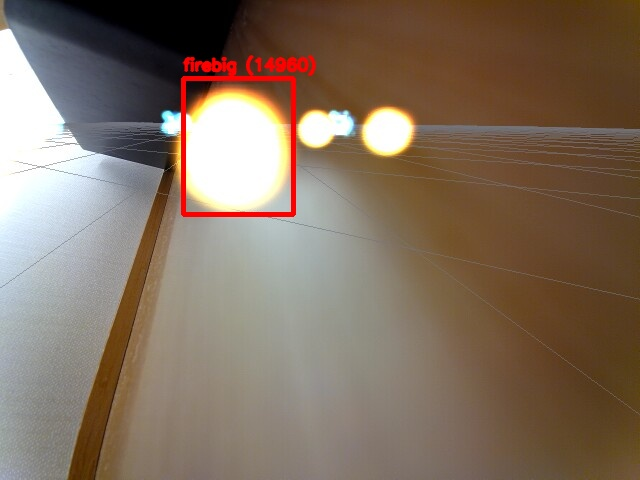firebig: (183, 78, 293, 214)
